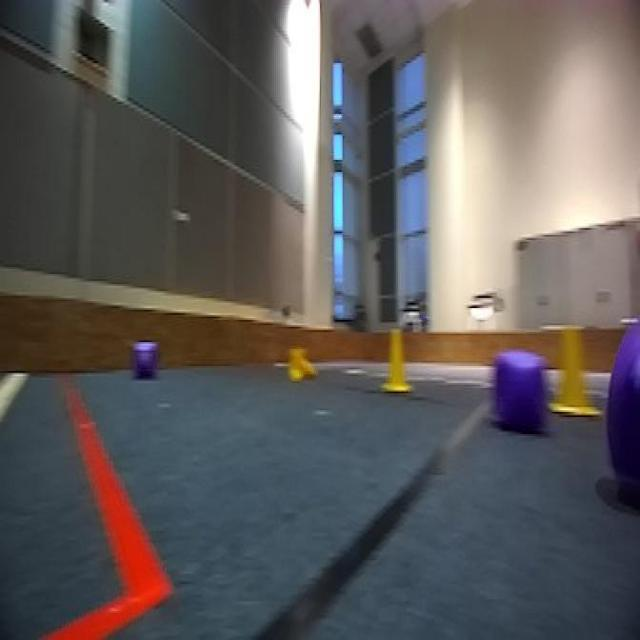frc_cone: (552, 330, 594, 417), (377, 325, 414, 393), (284, 344, 320, 383)
frc_cube: (594, 315, 640, 519), (494, 342, 550, 436), (132, 340, 158, 383)
